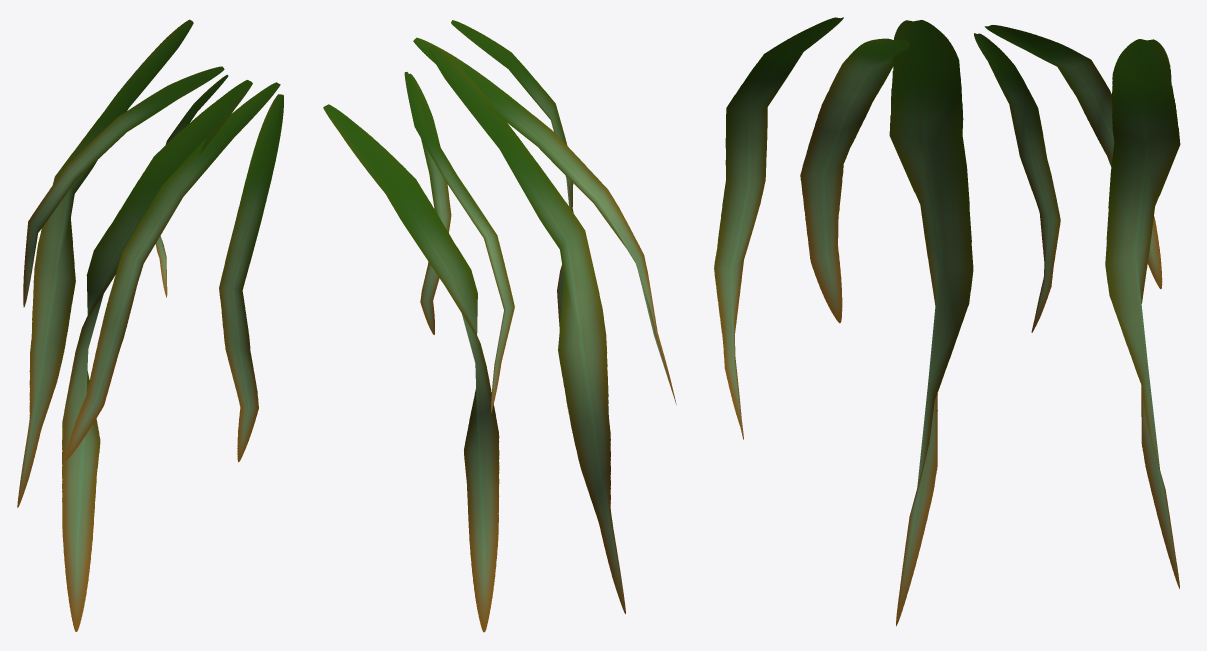
Rendered from SM_WallGrassClump_c.fbx.
3 renders of one model, left to right at view 1: azimuth 30°, elevation 25°; view 2: azimuth 150°, elevation 25°; view 3: azimuth 270°, elevation 25°, orthographic. The views are drawn at different scales.
Parts seen in each view (by area): view 1: SM_WallGrassClump_c; view 2: SM_WallGrassClump_c; view 3: SM_WallGrassClump_c.
Boxes of the visible parts, x1,y1,x2,y2 form: SM_WallGrassClump_c: (17,19,283,631); SM_WallGrassClump_c: (323,20,676,632); SM_WallGrassClump_c: (714,17,1180,626).
Bounding box in the file's own units: 38.58 × 46.96 × 80.22.
